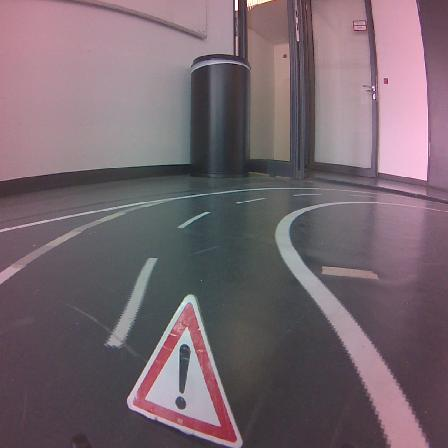ATTENTION: (127, 295, 241, 447)
